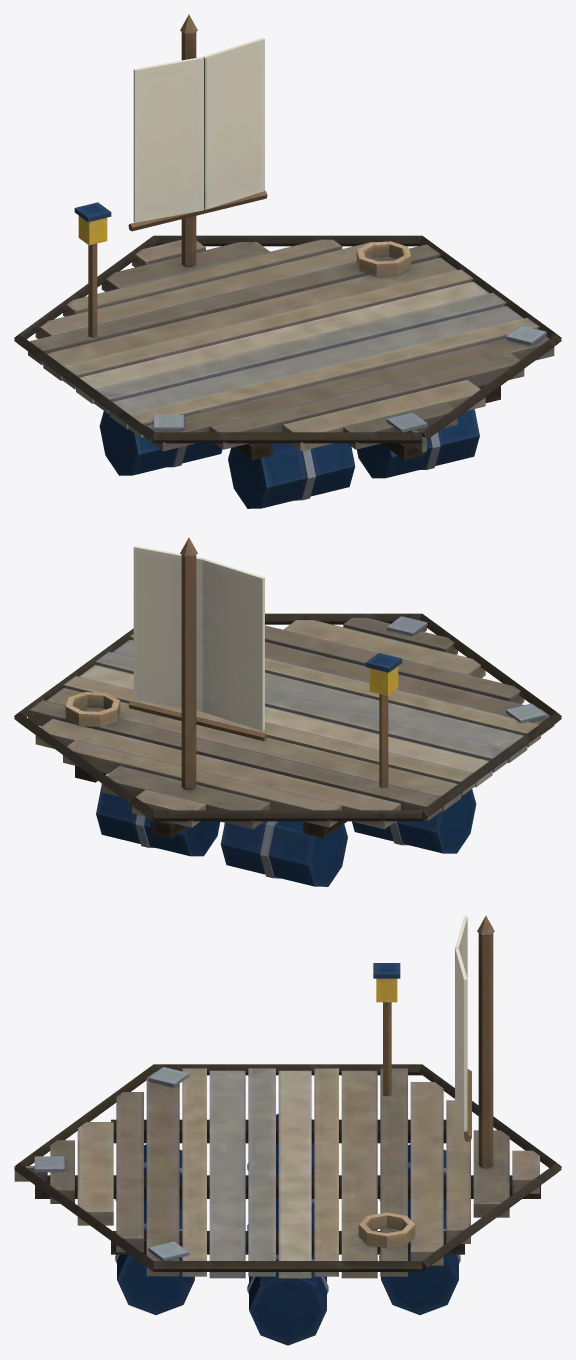
File: raft-a-age10.glb
3 views of the same model, one above another, from view 1: azimuth 30°, elevation 25°; view 2: azimuth 150°, elevation 25°; view 3: azimuth 270°, elevation 25° (orthographic).
Visible parts, largest first — view 1: raft-a-age10; view 2: raft-a-age10; view 3: raft-a-age10.
Boxes of the visible parts, <box> form: raft-a-age10: <box>14,14,561,508</box>; raft-a-age10: <box>14,537,561,886</box>; raft-a-age10: <box>14,916,561,1345</box>.
Size of the model in its own units: 1.59 by 1.29 by 1.83.
1 material, 1 textured.
